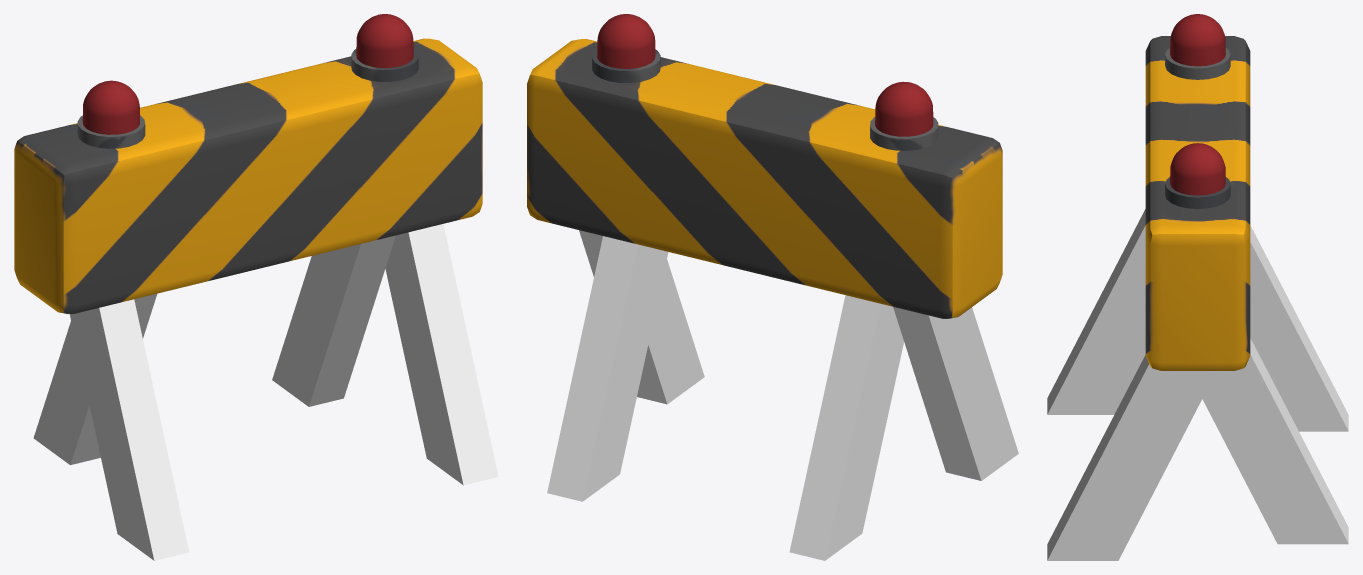
The model's file is Construction_Sign_1.fbx.
The picture shows the model from 3 angles, left to right: view 1: azimuth 30°, elevation 25°; view 2: azimuth 150°, elevation 25°; view 3: azimuth 270°, elevation 25°; orthographic projection. The views are drawn at different scales.
Visible parts, largest first — view 1: polySurface1, polySurface6, polySurface3, polySurface4, polySurface7, polySurface5; view 2: polySurface1, polySurface4, polySurface5, polySurface6, polySurface7, polySurface3; view 3: polySurface1, polySurface3, polySurface4, polySurface6, polySurface5, polySurface7.
Boxes of the visible parts, box(x1,y1,x2,y2) form: polySurface1: box(14, 38, 482, 313); polySurface6: box(69, 299, 189, 560); polySurface3: box(385, 224, 498, 485); polySurface4: box(272, 235, 395, 406); polySurface7: box(77, 14, 418, 148); polySurface5: box(33, 294, 157, 465); polySurface1: box(527, 39, 1002, 318); polySurface4: box(547, 236, 668, 501); polySurface5: box(789, 295, 903, 560); polySurface6: box(893, 307, 1018, 480); polySurface7: box(592, 14, 938, 150); polySurface3: box(579, 230, 704, 404); polySurface1: box(1145, 36, 1250, 370); polySurface3: box(1047, 355, 1216, 560); polySurface4: box(1202, 338, 1348, 544); polySurface6: box(1047, 209, 1145, 414); polySurface5: box(1250, 225, 1348, 431); polySurface7: box(1165, 14, 1230, 208).
Bounding box in the file's own units: 0.5269 × 0.4855 × 0.333.
